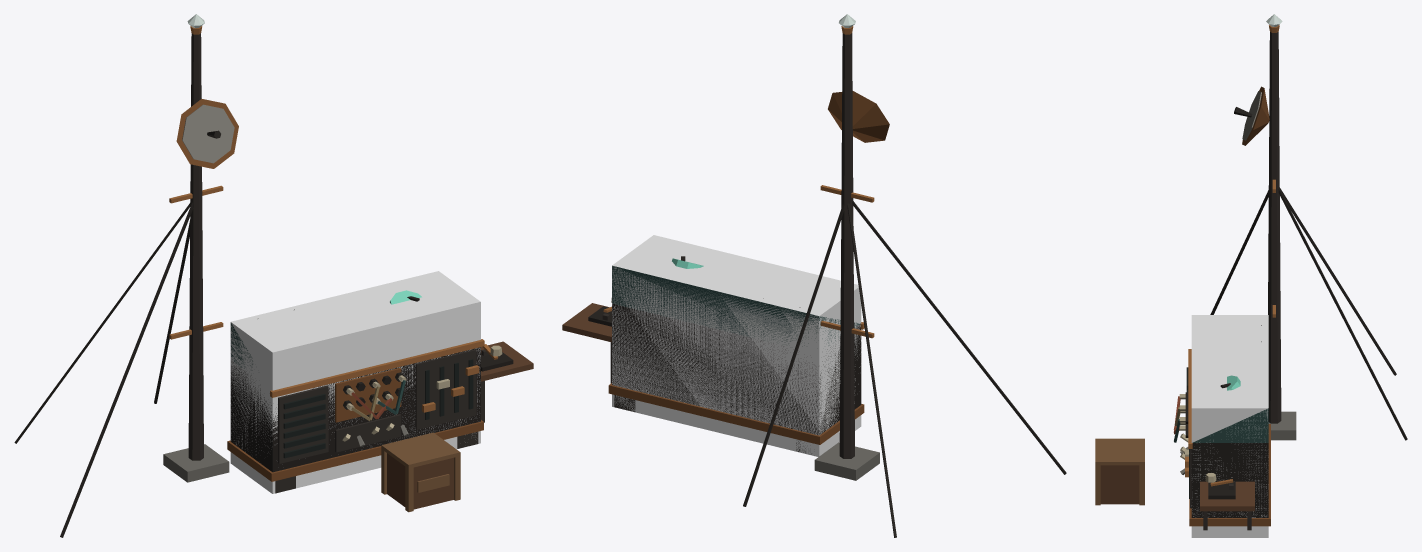
The model's file is camp_settings_console.glb.
3 views of the same model, side by side, from view 1: azimuth 30°, elevation 25°; view 2: azimuth 150°, elevation 25°; view 3: azimuth 270°, elevation 25° (orthographic). The views are drawn at different scales.
Parts seen in each view (by area): view 1: Body, camp_settings_console-col-col; view 2: Body, camp_settings_console-col-col; view 3: Body, camp_settings_console-col-col.
Boxes of the visible parts, left/top/right/bottom form: Body: left=14, top=14, right=533, bottom=537; camp_settings_console-col-col: left=230, top=271, right=480, bottom=493; Body: left=562, top=14, right=1066, bottom=537; camp_settings_console-col-col: left=612, top=235, right=861, bottom=456; Body: left=1095, top=14, right=1407, bottom=530; camp_settings_console-col-col: left=1191, top=315, right=1268, bottom=537.
Size of the model in its own units: 9.12 by 8.35 by 5.67.
